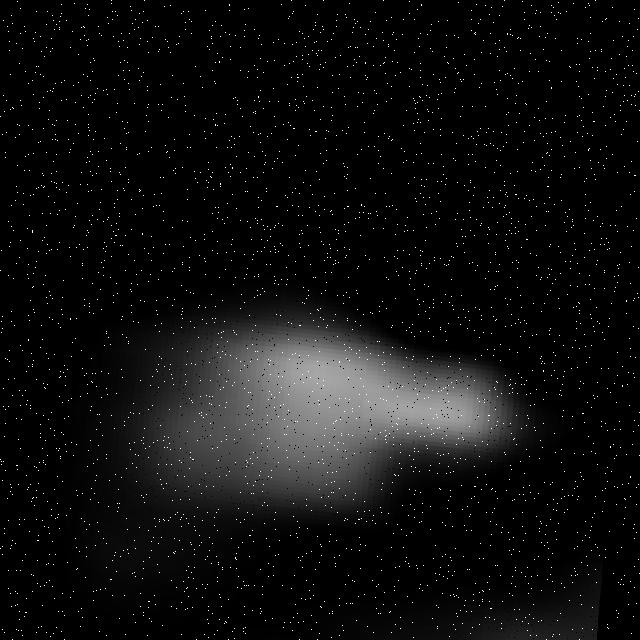person: (56, 221, 568, 541)
